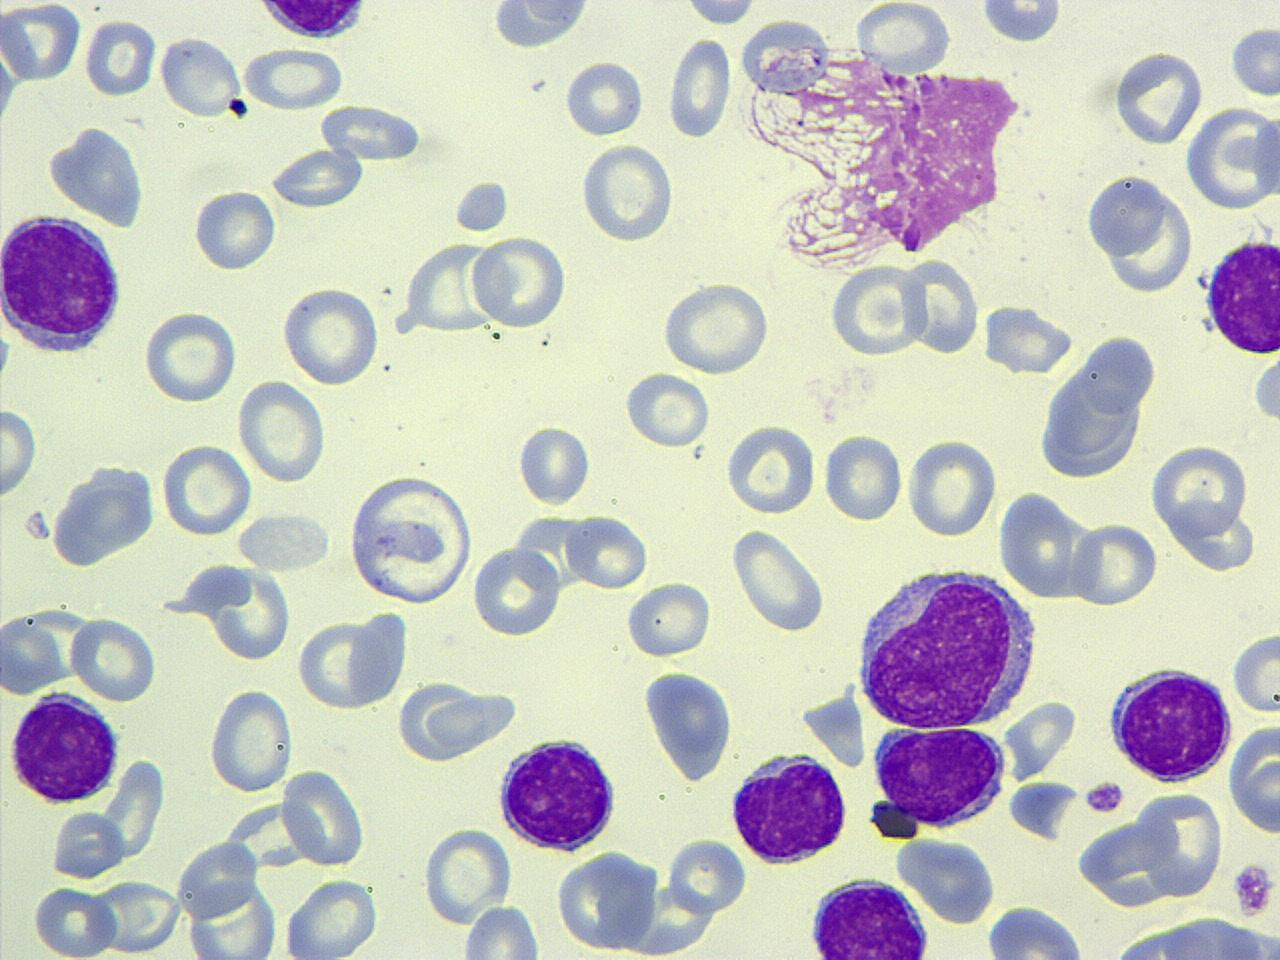Platelets: (977, 1, 1065, 46), (1229, 25, 1279, 96), (450, 177, 514, 231), (1230, 860, 1278, 918), (1251, 352, 1280, 428), (1081, 778, 1127, 816), (0, 331, 15, 379), (226, 95, 251, 121), (1195, 270, 1211, 291)
RBC: (344, 468, 476, 607), (1089, 172, 1197, 296), (728, 524, 828, 634), (1148, 440, 1252, 546), (279, 282, 383, 388), (660, 279, 773, 376), (554, 848, 656, 954), (996, 486, 1089, 600), (577, 141, 677, 245), (236, 376, 330, 484), (1137, 785, 1225, 899), (1185, 104, 1279, 211), (403, 236, 503, 335), (1109, 46, 1205, 148), (470, 231, 568, 330), (142, 306, 240, 405), (828, 260, 926, 360), (207, 684, 295, 794), (906, 435, 998, 541), (419, 825, 514, 927), (814, 874, 930, 957), (723, 419, 819, 516), (159, 440, 254, 538), (900, 832, 997, 928), (468, 543, 564, 638), (278, 766, 369, 867), (293, 618, 390, 710), (736, 12, 834, 99), (283, 873, 381, 959), (1069, 518, 1161, 609), (211, 563, 292, 663), (69, 614, 159, 704), (822, 428, 905, 525), (189, 185, 278, 272), (184, 878, 278, 960), (101, 753, 169, 864), (159, 31, 244, 121), (850, 1, 955, 73), (622, 368, 714, 450), (904, 256, 980, 355), (624, 577, 714, 659), (93, 875, 183, 956), (666, 33, 734, 140), (664, 832, 748, 916), (242, 44, 345, 112), (565, 510, 651, 590), (562, 57, 645, 139), (0, 2, 83, 83), (1004, 696, 1079, 784), (517, 421, 592, 508), (316, 103, 426, 162), (82, 14, 157, 100), (31, 882, 118, 957), (982, 902, 1089, 960), (236, 509, 334, 573), (269, 146, 366, 210), (0, 609, 71, 695), (48, 808, 123, 882), (458, 903, 544, 959), (1231, 624, 1279, 720), (0, 405, 42, 500), (976, 0, 1065, 44), (1234, 752, 1280, 836), (1250, 103, 1280, 206), (680, 0, 763, 28)
WBC: (449, 0, 1056, 304), (714, 15, 1038, 276), (852, 562, 1043, 732), (1036, 329, 1162, 484), (0, 208, 129, 358), (345, 468, 477, 608), (1106, 662, 1236, 786), (870, 722, 1010, 833), (496, 732, 622, 854), (727, 750, 851, 868), (1084, 166, 1196, 293), (6, 688, 124, 804), (50, 457, 160, 568), (641, 662, 737, 782), (45, 122, 150, 229), (805, 872, 934, 959), (1111, 45, 1205, 150), (1202, 231, 1280, 357), (1090, 912, 1280, 960), (315, 103, 433, 164), (487, 1, 597, 53), (248, 0, 376, 42)
